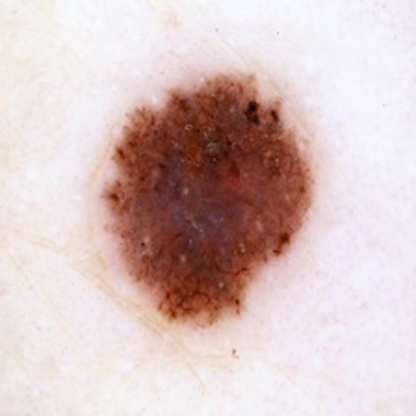malignant: (122, 97, 298, 320)
